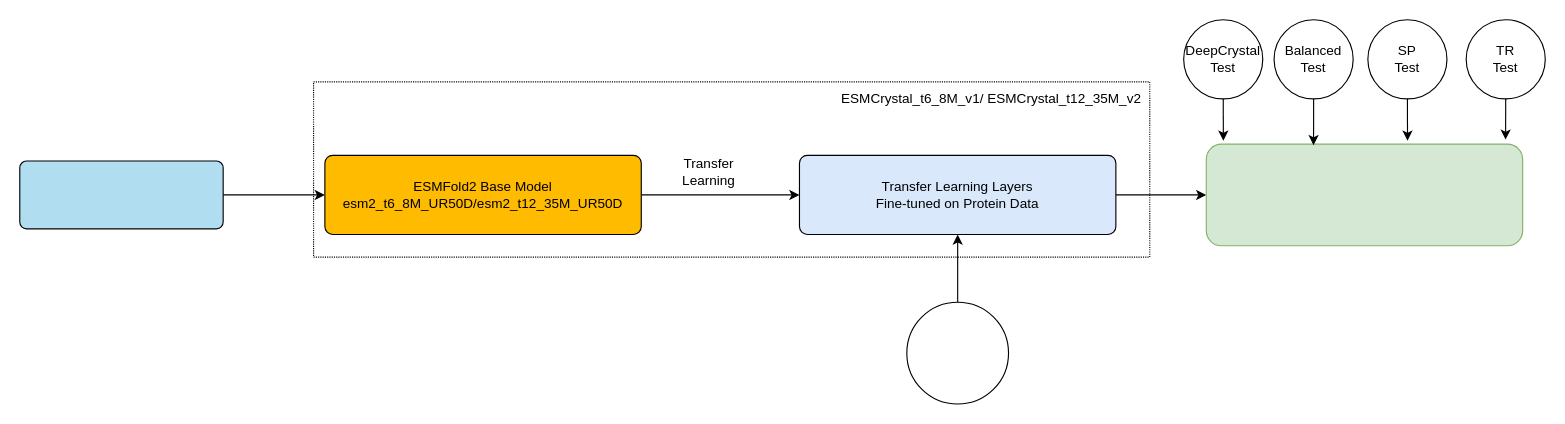
Image size: 1565x424. Some labels were removed from this diagram. The shapes that lost their labels are listed below. From the top down, each one's centre as x and y in pixels, then its label:
At pixel 121 194: "Protein Sequence Input".
At pixel 1364 194: "Output Layer Predictions Label 0: Non-crystallizable Label 1: Crystallizable".
At pixel 957 352: "DeepCrystal Train".
